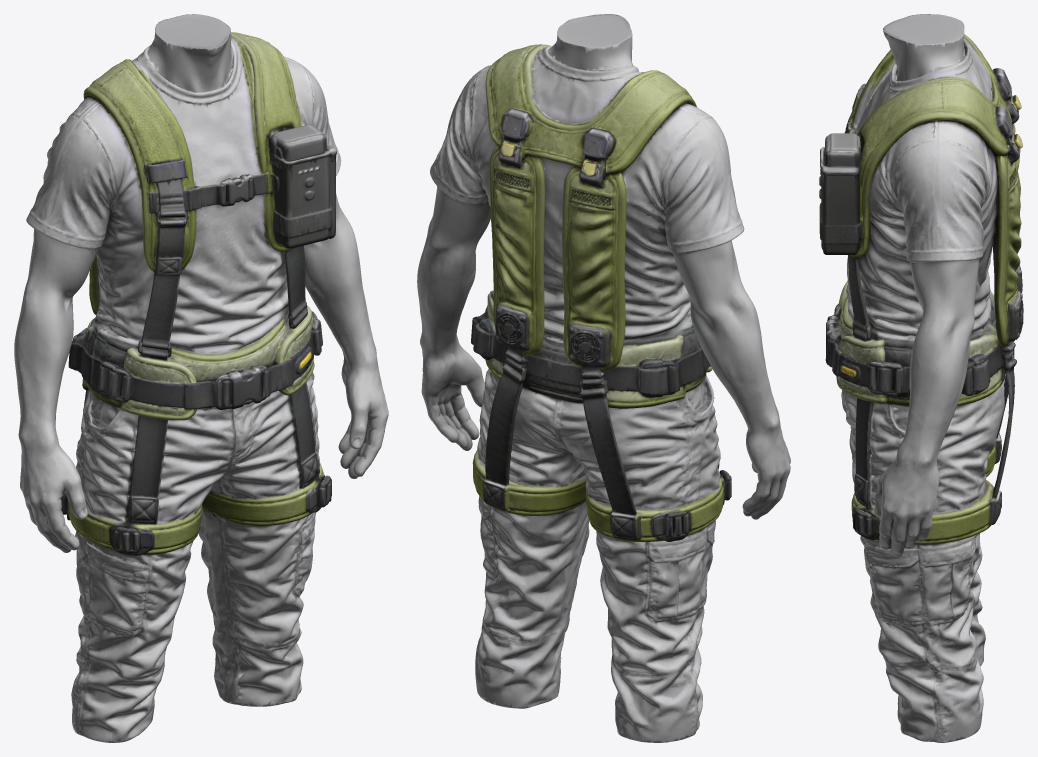
The model's file is GREEN_v4-web.glb.
3 renders of one model, left to right at view 1: azimuth 30°, elevation 25°; view 2: azimuth 150°, elevation 25°; view 3: azimuth 270°, elevation 25°, orthographic. The views are drawn at different scales.
Parts seen in each view (by area): view 1: exoskeleton harness 3d model; view 2: exoskeleton harness 3d model; view 3: exoskeleton harness 3d model.
Boxes of the visible parts, x1,y1,x2,y2 form: exoskeleton harness 3d model: [14, 14, 388, 742]; exoskeleton harness 3d model: [417, 14, 790, 742]; exoskeleton harness 3d model: [819, 14, 1023, 742].
Size of the model in its own units: 0.543 by 0.9809 by 0.274.
1 material, 1 textured.
